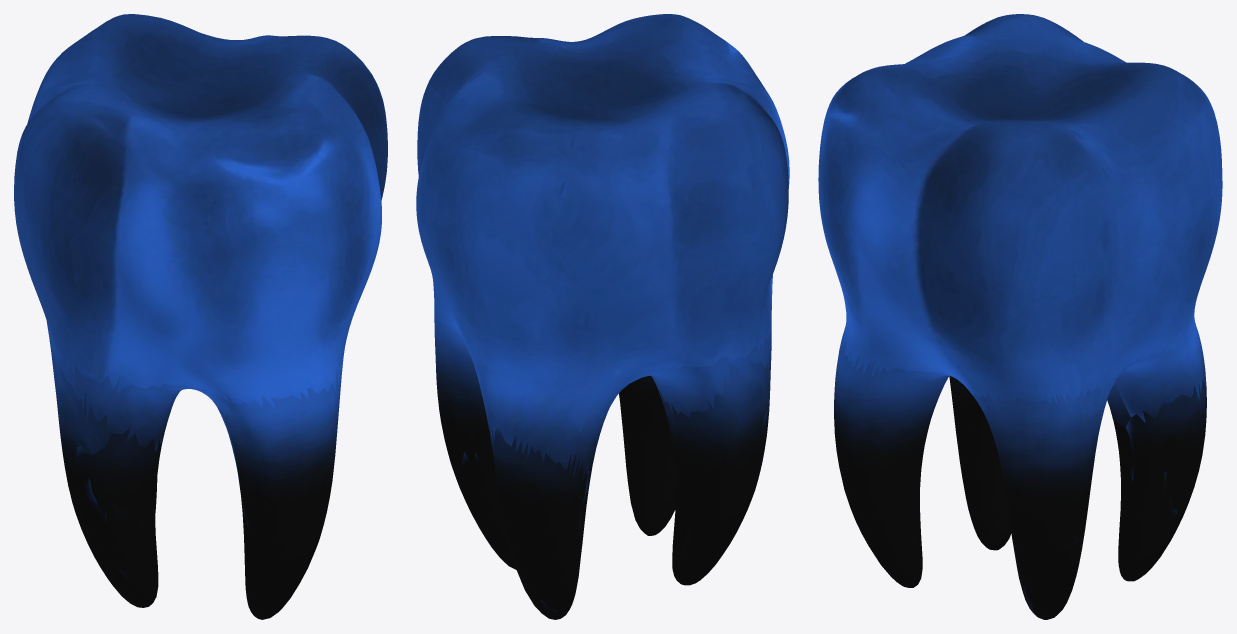
File: tooth.glb
3 views of the same model, side by side, from view 1: azimuth 30°, elevation 25°; view 2: azimuth 150°, elevation 25°; view 3: azimuth 270°, elevation 25° (orthographic).
Visible parts, largest first — view 1: tripo_node_f1a732f5-5e91-4379-b533-96e4faa36fbd; view 2: tripo_node_f1a732f5-5e91-4379-b533-96e4faa36fbd; view 3: tripo_node_f1a732f5-5e91-4379-b533-96e4faa36fbd.
Part boxes in pixels (box(x1,y1,x2,y2)): tripo_node_f1a732f5-5e91-4379-b533-96e4faa36fbd: box(14, 14, 387, 619); tripo_node_f1a732f5-5e91-4379-b533-96e4faa36fbd: box(416, 14, 789, 619); tripo_node_f1a732f5-5e91-4379-b533-96e4faa36fbd: box(818, 14, 1222, 619).
Bounding box in the file's own units: 0.6979 × 0.9798 × 0.7025.
1 material, 1 textured.
